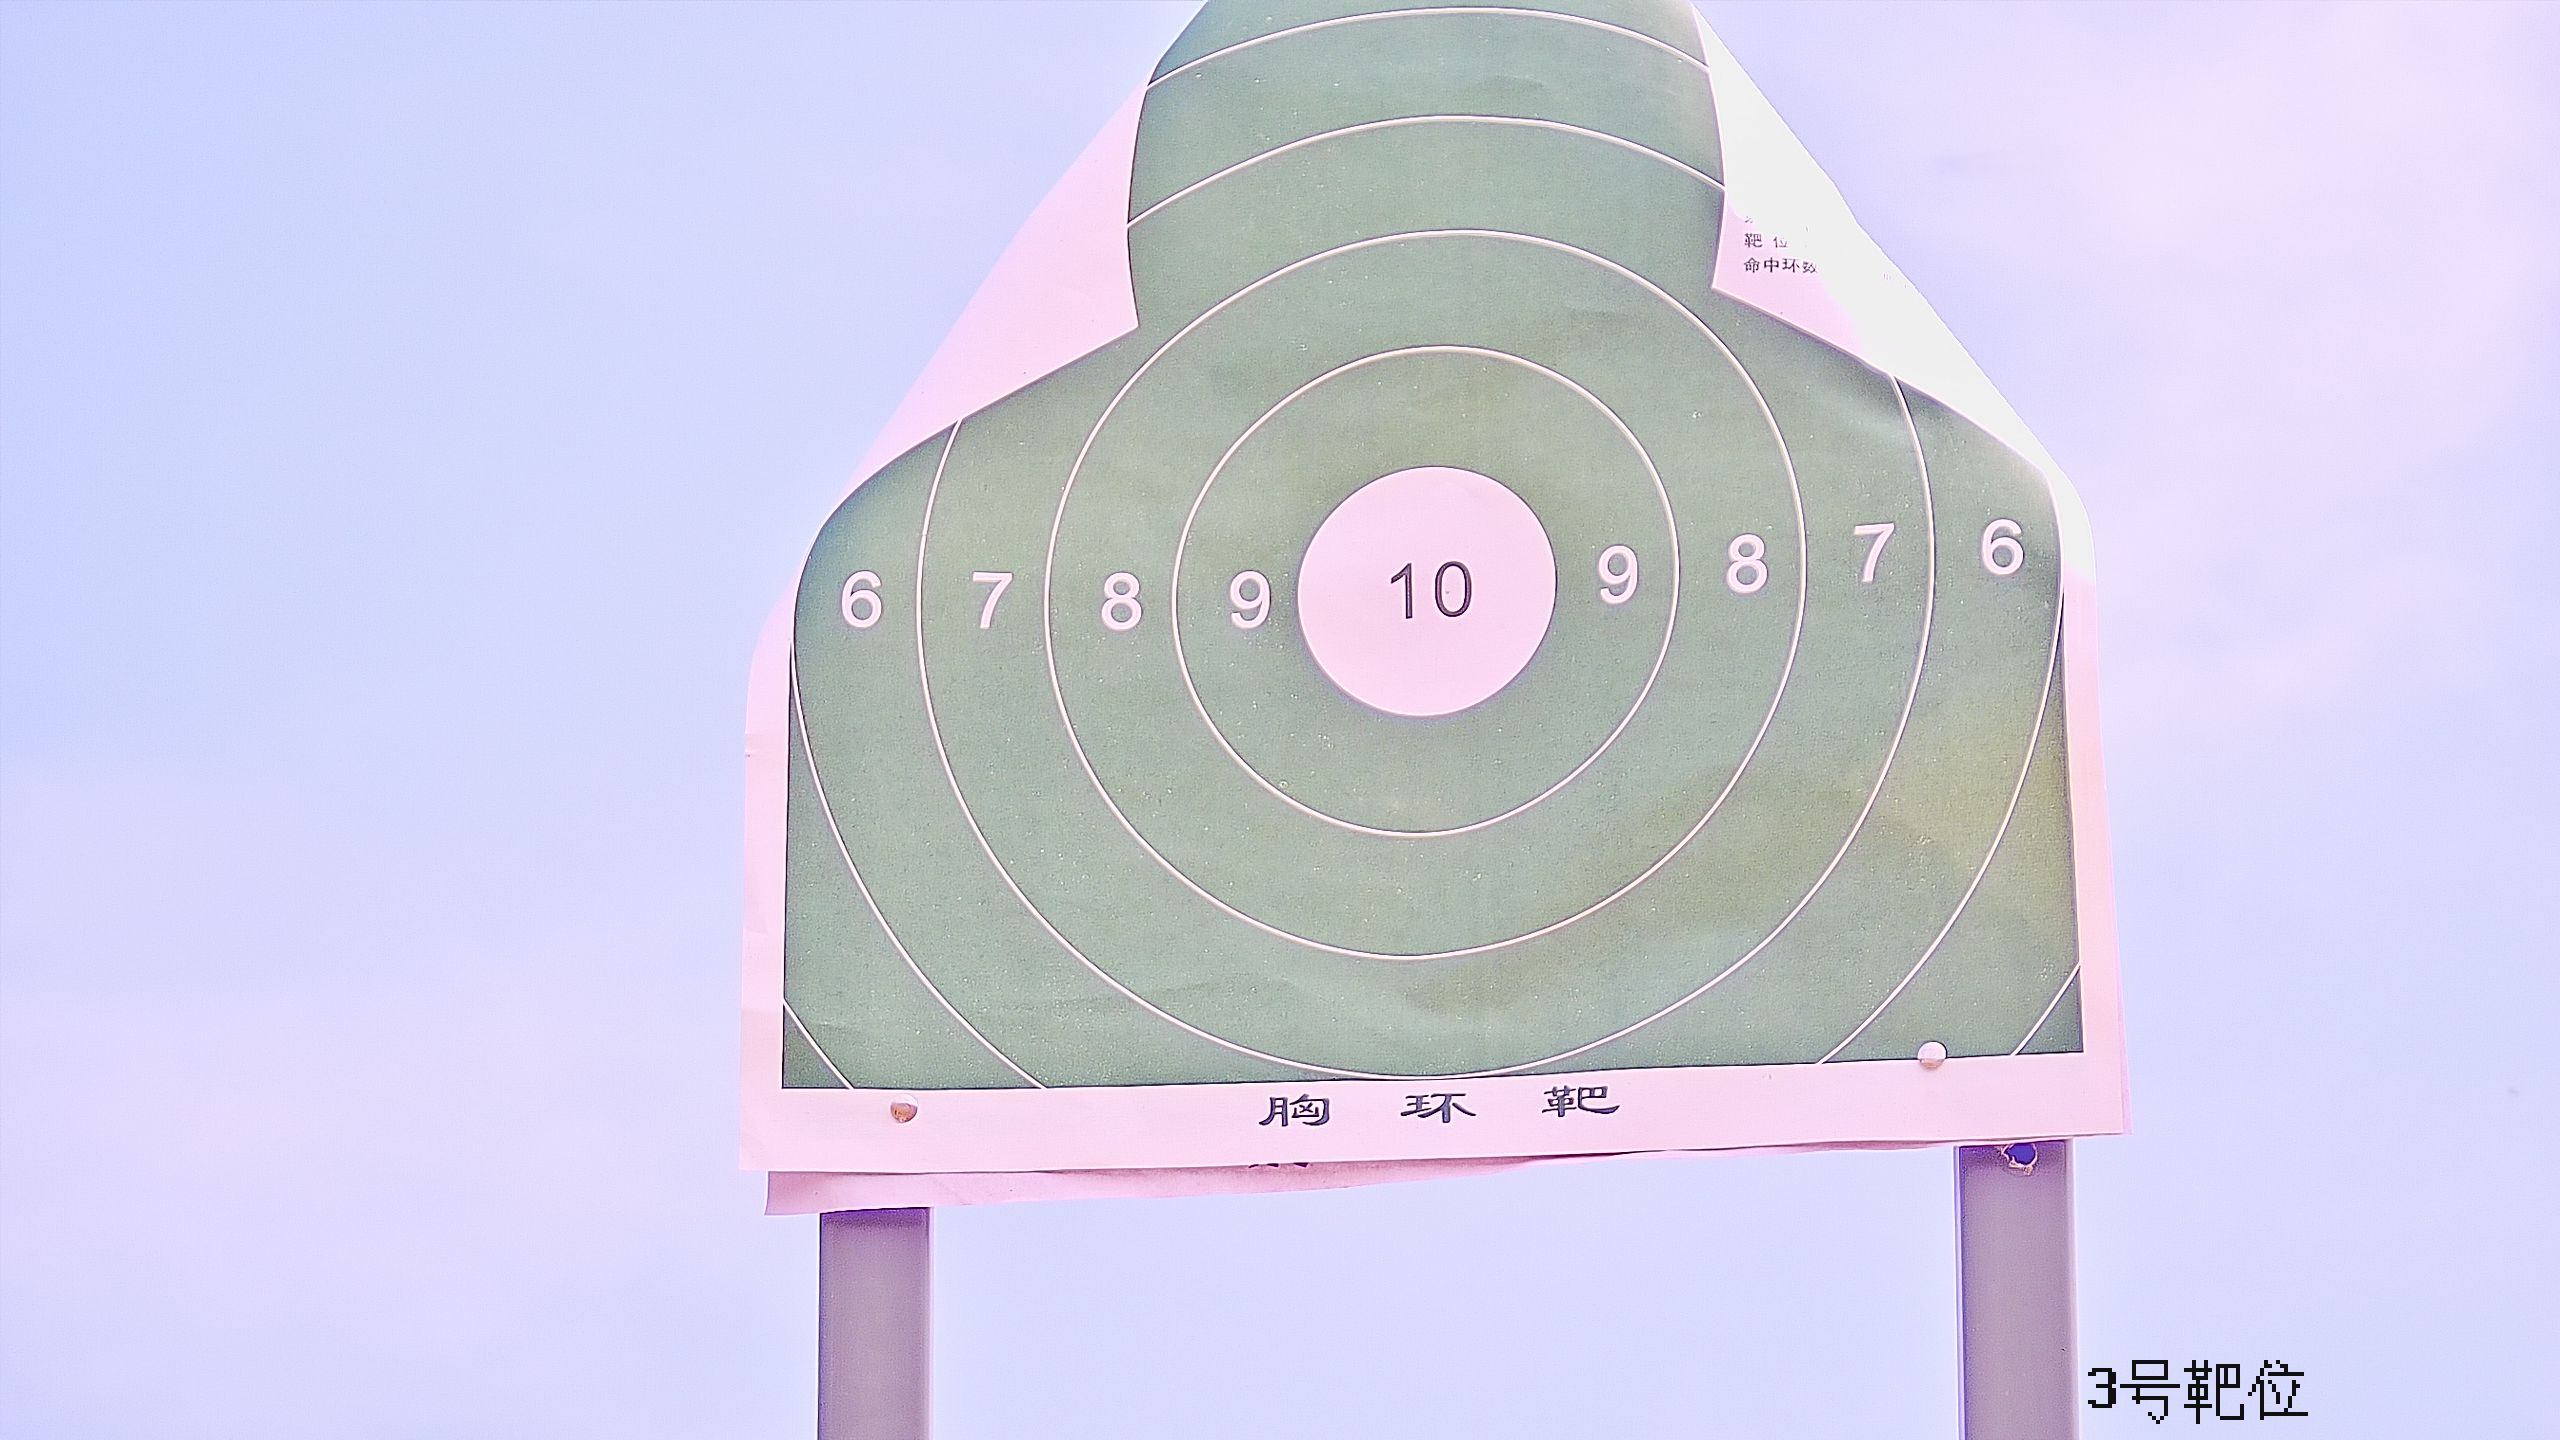kernel: (1417, 587, 1424, 593)
target: (774, 2, 2085, 1094)
ten: (1298, 466, 1560, 716)
